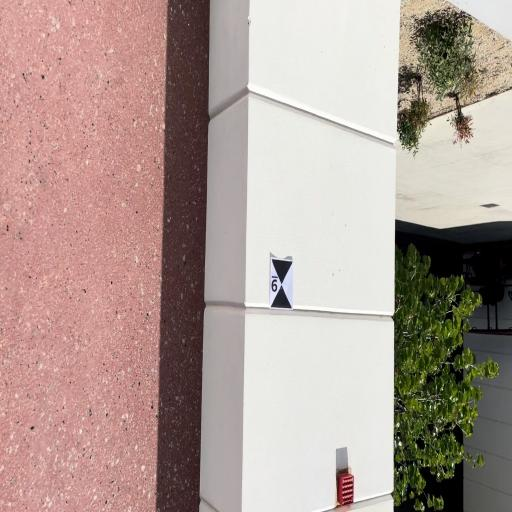target9: (269, 257, 294, 311)
